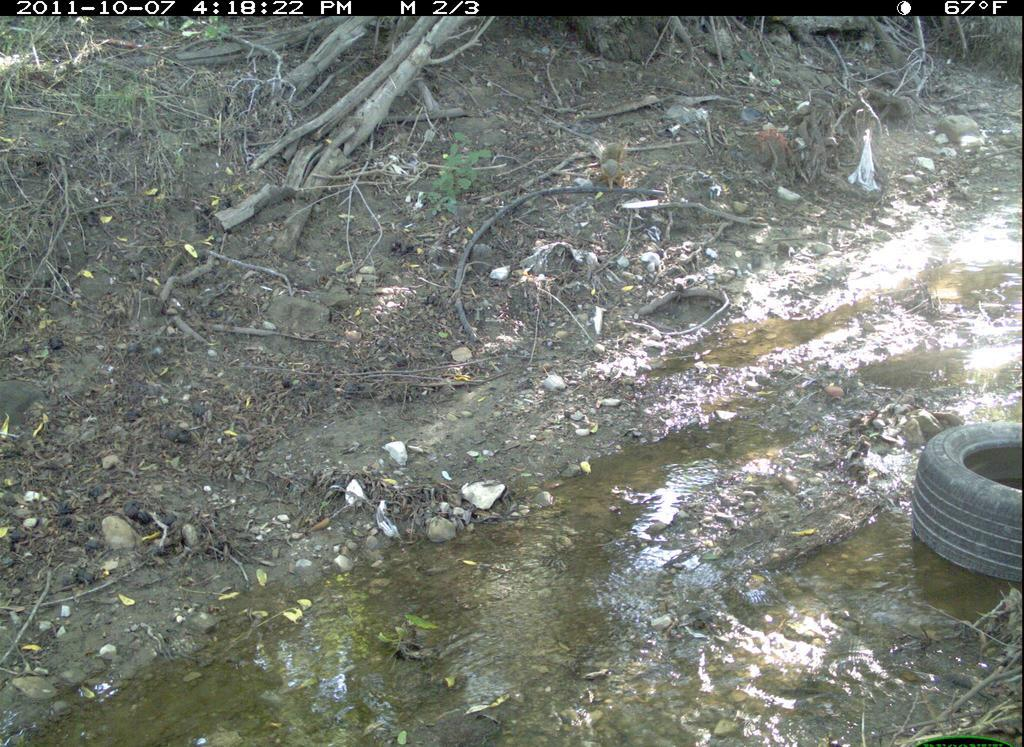squirrel: (593, 139, 634, 195)
